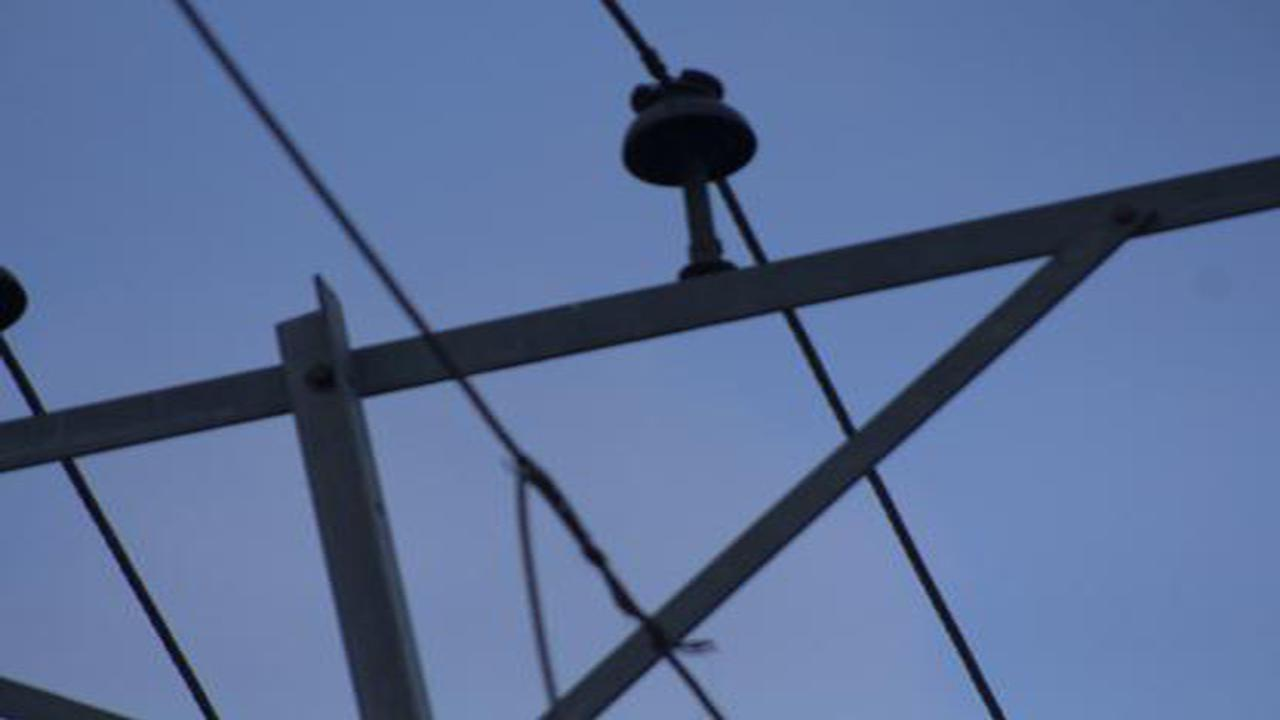insulator_pin: (613, 63, 767, 196)
